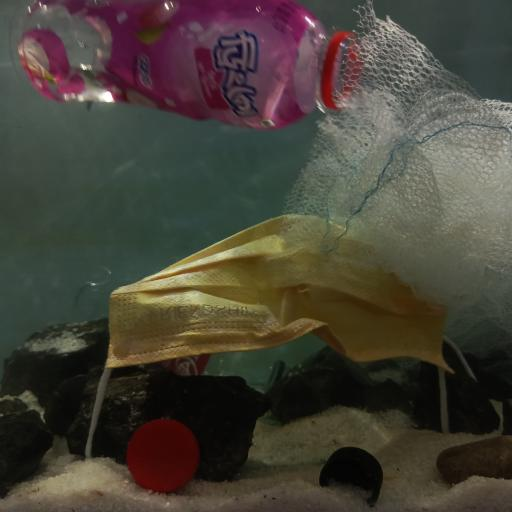bottle_cap: (126, 418, 202, 492), (320, 446, 383, 506)
mask: (84, 213, 479, 404)
net: (276, 0, 512, 354)
plastic_bottle: (11, 0, 375, 130), (76, 260, 286, 388)
